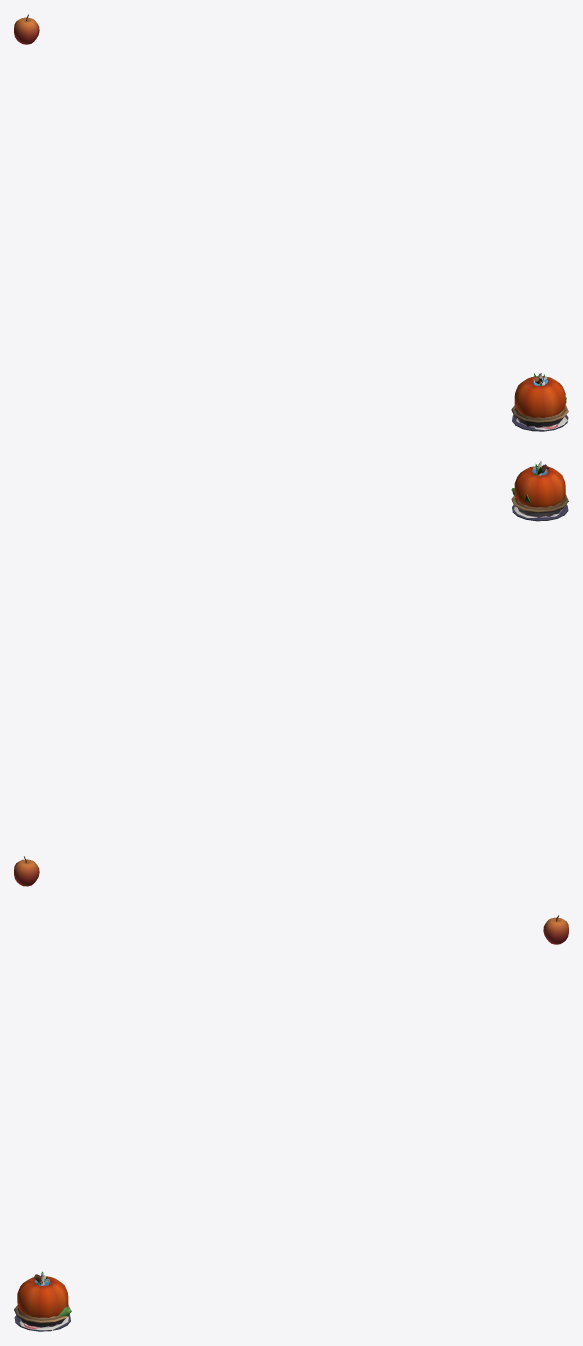
Rendered from Foods.fbx.
3 renders of one model, top to bottom at view 1: azimuth 30°, elevation 25°; view 2: azimuth 150°, elevation 25°; view 3: azimuth 330°, elevation 25°, orthographic.
Parts seen in each view (by area): view 1: Pumpkin, Apple.Red, ApplePie; view 2: Pumpkin, Apple.Red, ApplePie; view 3: Pumpkin, Apple.Red.
Boxes of the visible parts, x1,y1,x2,y2 form: Pumpkin: (514, 376, 565, 417); Apple.Red: (14, 14, 39, 44); ApplePie: (511, 404, 568, 427); Pumpkin: (514, 464, 565, 507); Apple.Red: (14, 856, 39, 886); ApplePie: (511, 494, 568, 517); Pumpkin: (17, 1274, 68, 1317); Apple.Red: (543, 915, 568, 944).
Bounding box in the file's own units: 52.95 × 47.56 × 936.
